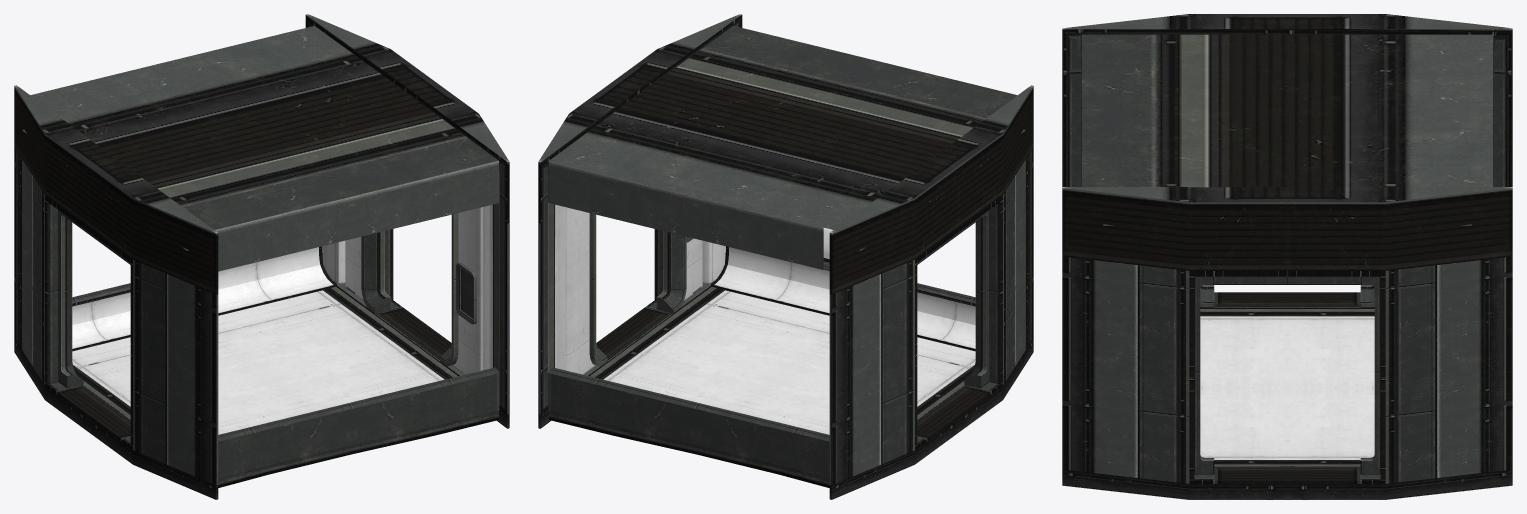
File: Pre_Elevator_platformd.FBX
3 views of the same model, side by side, from view 1: azimuth 30°, elevation 25°; view 2: azimuth 150°, elevation 25°; view 3: azimuth 270°, elevation 25° (orthographic). The views are drawn at different scales.
Parts seen in each view (by area): view 1: Pre_Elevator_platformd; view 2: Pre_Elevator_platformd; view 3: Pre_Elevator_platformd.
Boxes of the visible parts, box(x1,y1,x2,y2) form: Pre_Elevator_platformd: box(14, 14, 509, 499); Pre_Elevator_platformd: box(538, 14, 1033, 499); Pre_Elevator_platformd: box(1062, 14, 1512, 499).
Size of the model in its own units: 6.31 by 4.65 by 6.37.
